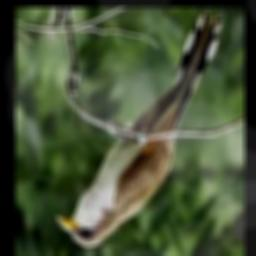Cuckoo: (57, 12, 222, 246)
